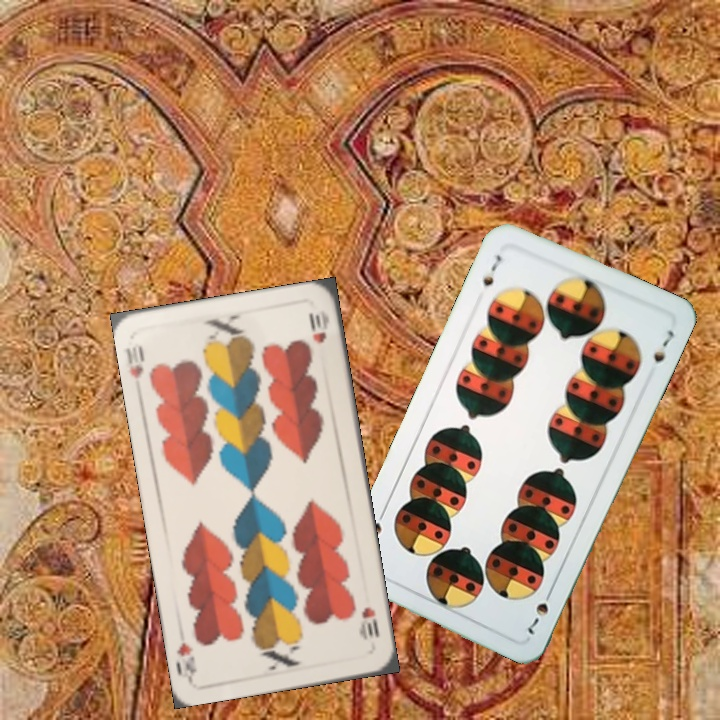H10: (122, 338, 147, 381), (356, 603, 382, 643)
S7: (523, 584, 556, 637), (478, 250, 505, 289)
